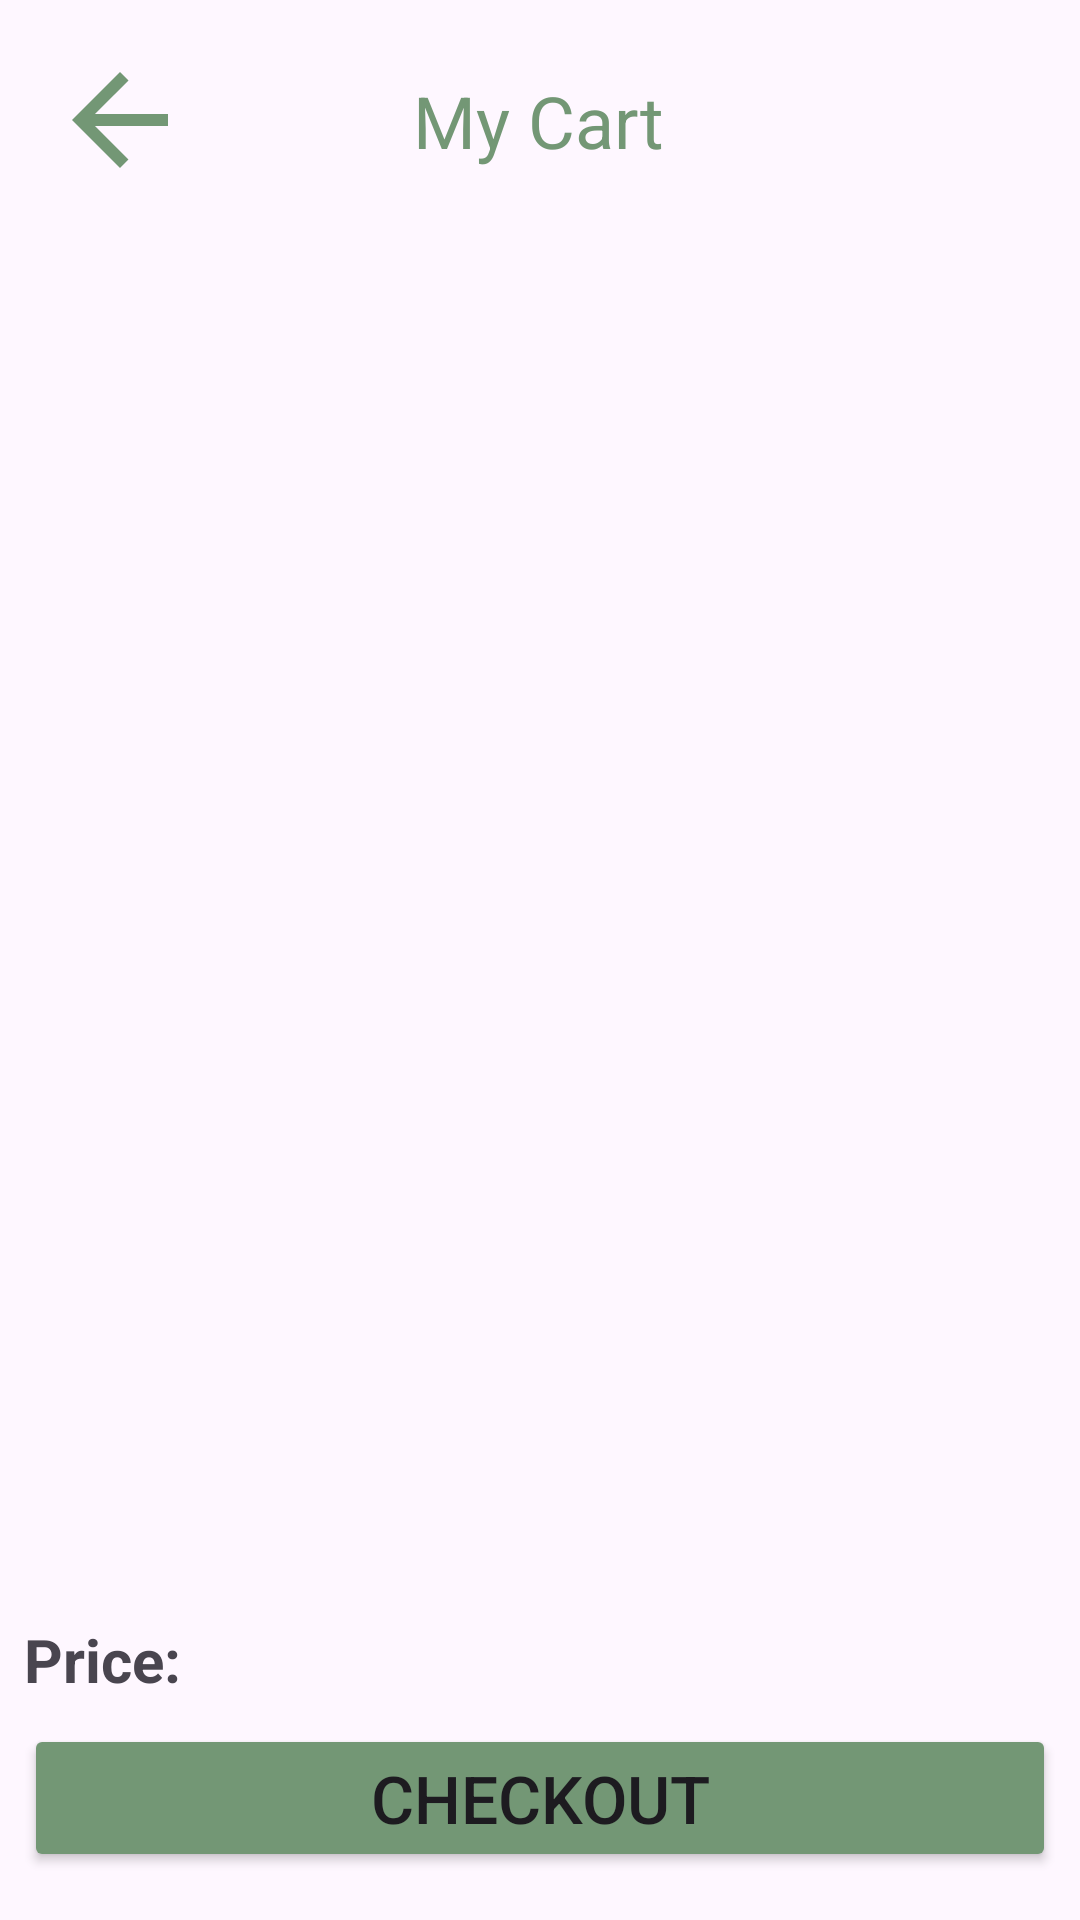

Screen size 1080px×1920px. Icon name, then its center in pixels as [x,y]:
arrow back: [120,120]
